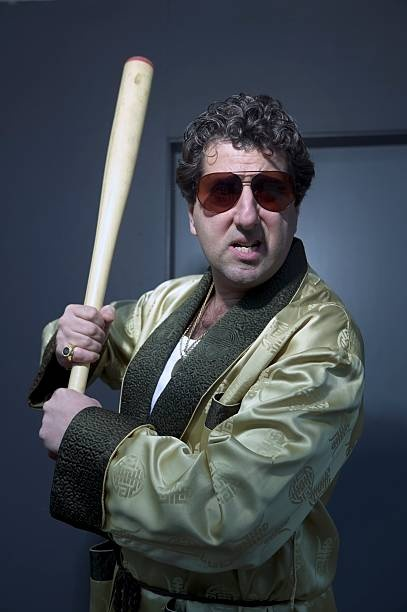bita: (64, 54, 155, 395)
